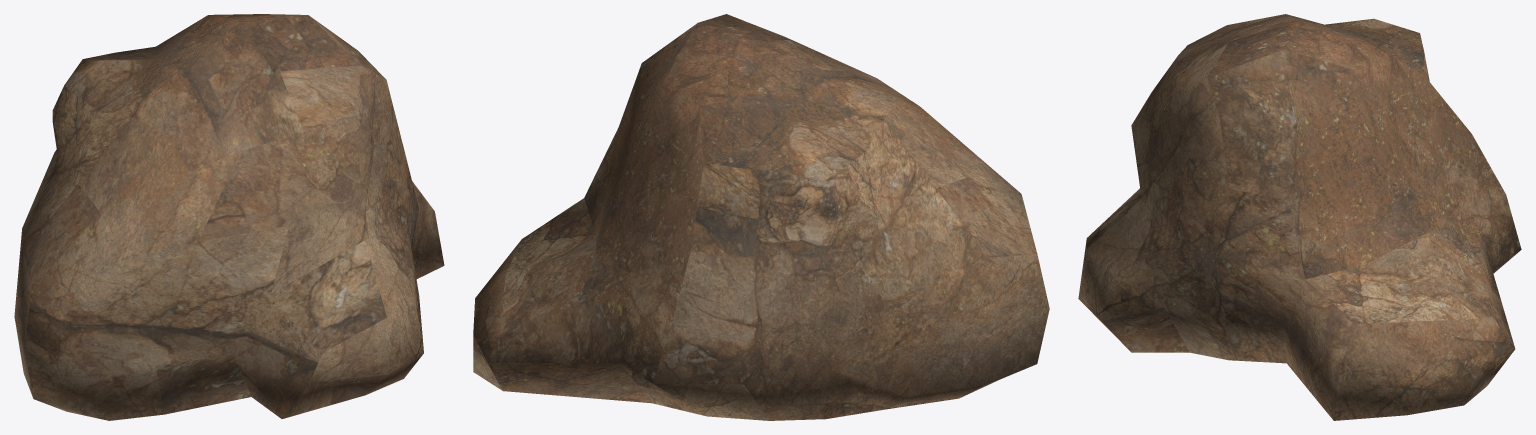
File: rock1.fbx
The picture shows the model from 3 angles, left to right: view 1: azimuth 30°, elevation 25°; view 2: azimuth 150°, elevation 25°; view 3: azimuth 270°, elevation 25°; orthographic projection. The views are drawn at different scales.
Visible parts, largest first — view 1: Rock1; view 2: Rock1; view 3: Rock1.
Boxes of the visible parts, box(x1,y1,x2,y2) form: Rock1: box(14, 14, 444, 420); Rock1: box(473, 14, 1049, 420); Rock1: box(1078, 14, 1521, 420).
Bounding box in the file's own units: 277 × 171 × 232.
1 material, 1 textured.
